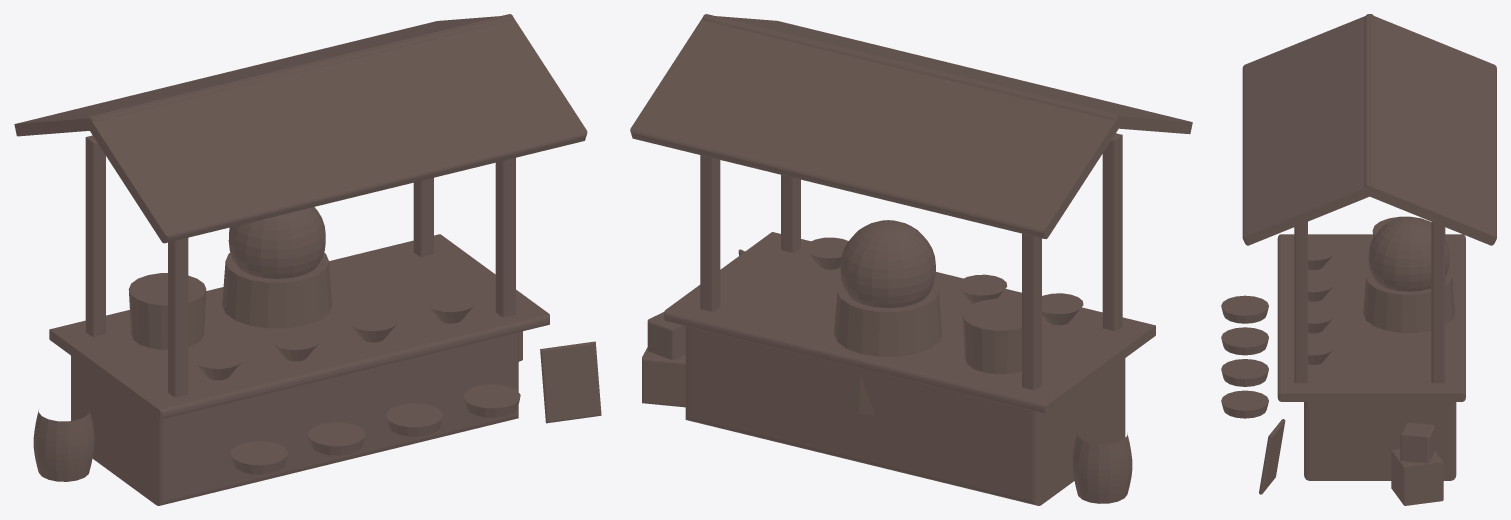
File: ramenStall.ol.glb
3 renders of one model, left to right at view 1: azimuth 30°, elevation 25°; view 2: azimuth 150°, elevation 25°; view 3: azimuth 270°, elevation 25°, orthographic. The views are drawn at different scales.
Size of the model in its own units: 11.25 by 8.17 by 6.64.
